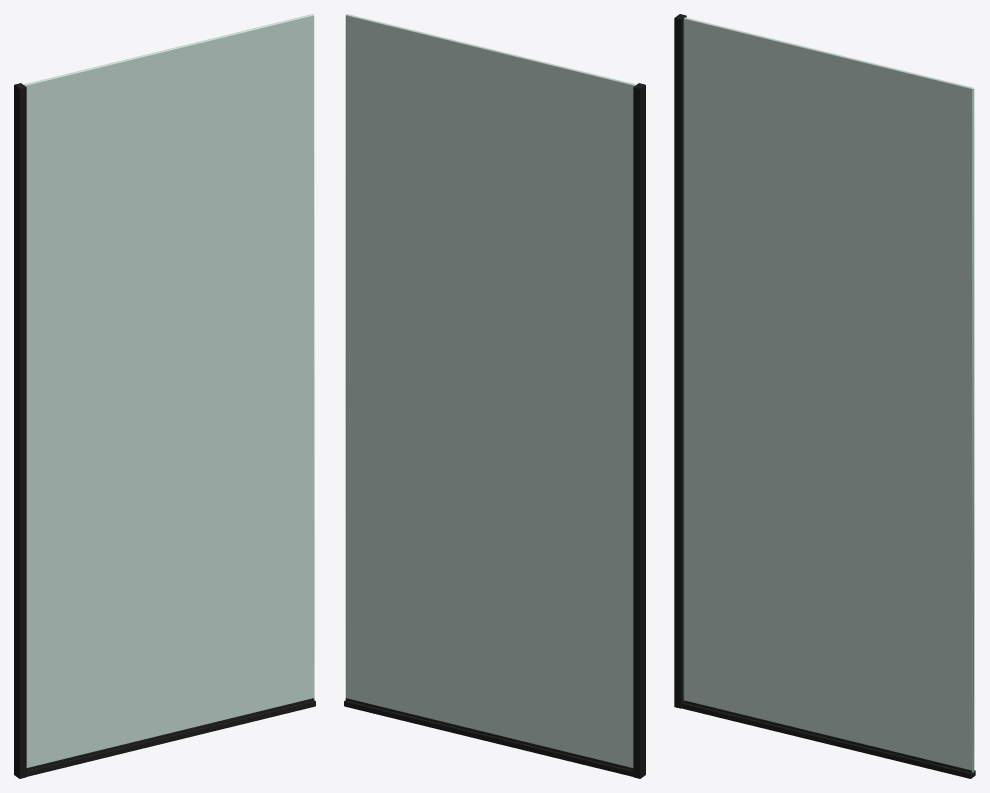
The model's file is shower-screen-900.gltf.
The picture shows the model from 3 angles, left to right: view 1: azimuth 30°, elevation 25°; view 2: azimuth 150°, elevation 25°; view 3: azimuth 330°, elevation 25°; orthographic projection.
Parts seen in each view (by area): view 1: shower-screen; view 2: shower-screen; view 3: shower-screen.
Part boxes in pixels (box(x1,y1,x2,y2)): shower-screen: box(14, 14, 315, 778); shower-screen: box(344, 14, 645, 778); shower-screen: box(674, 14, 975, 778).
Bounding box in the file's own units: 0.9001 × 2 × 0.03.
